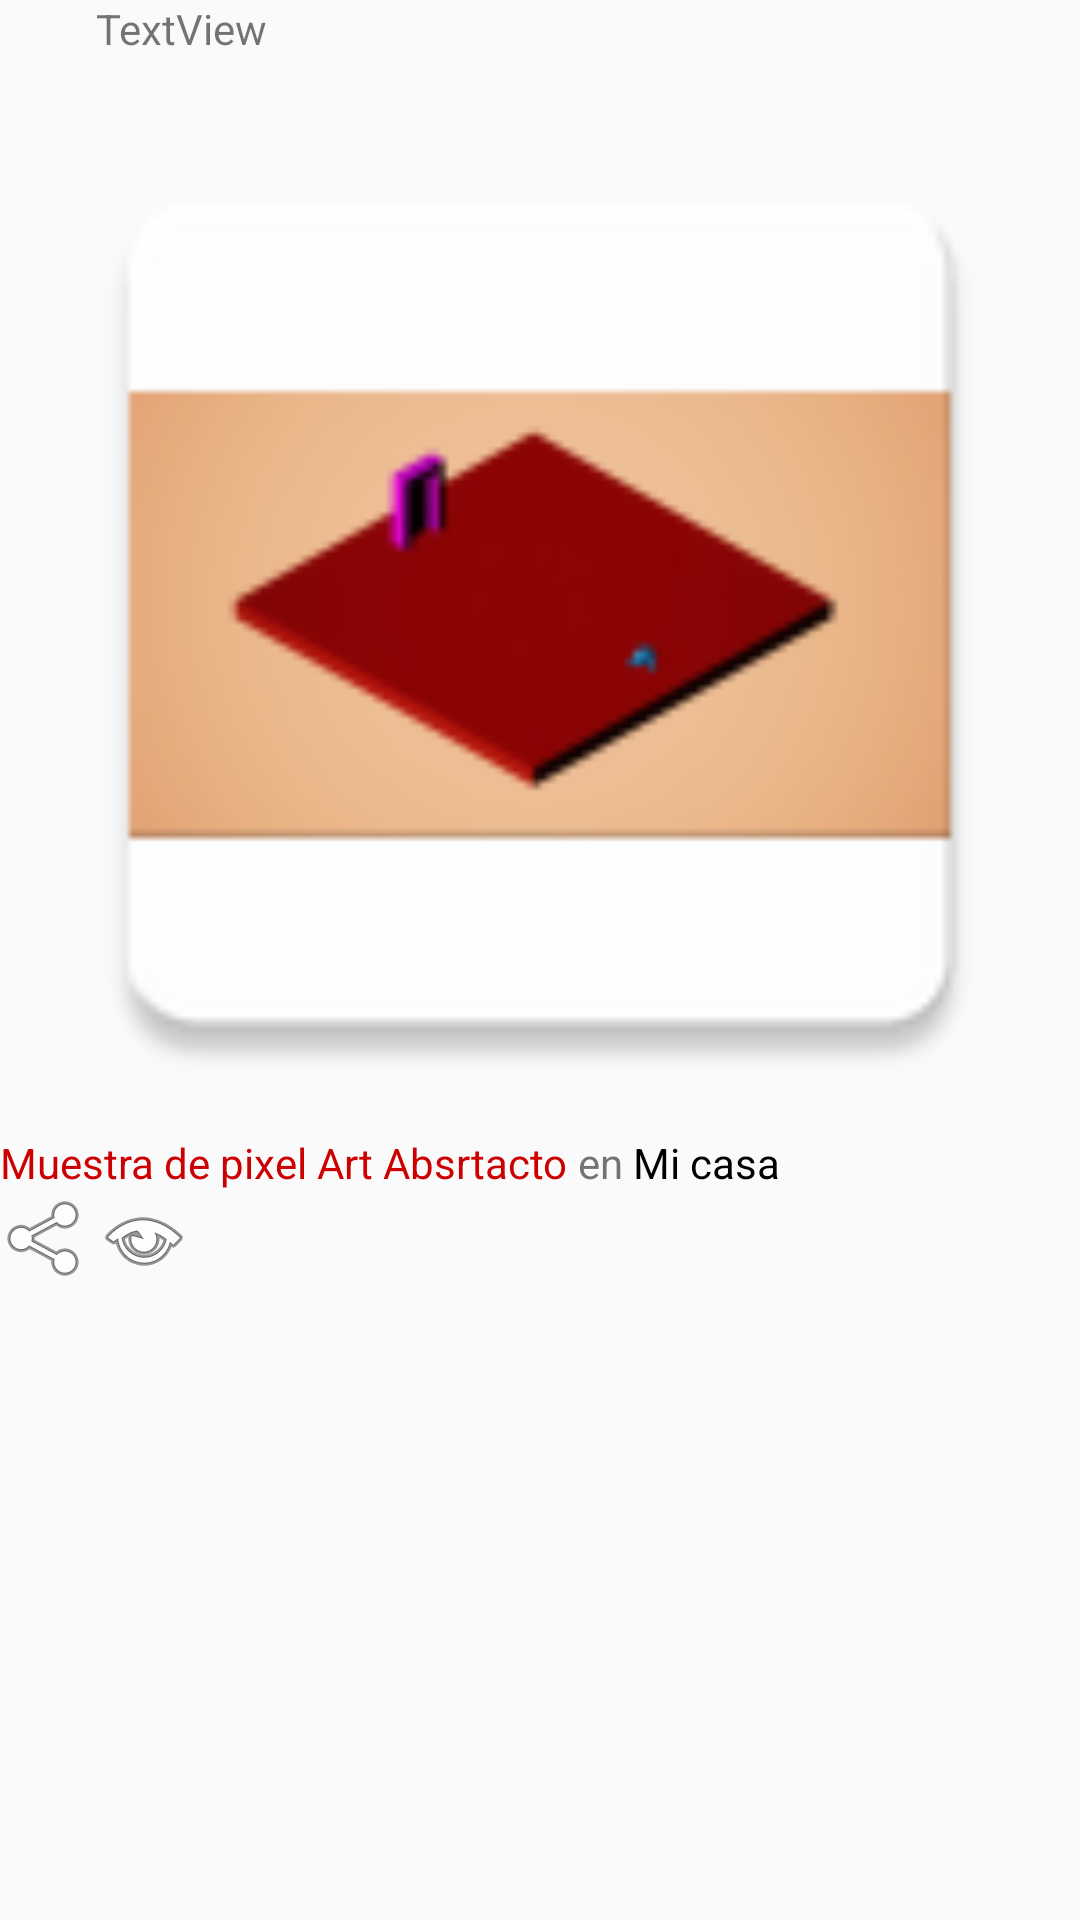

Named icons in this screenshot (1080 × 1920) and their bounding boxes, bbox=(x1, y1, x2, y2):
share: bbox=(7, 1201, 79, 1276)
view: bbox=(105, 1217, 183, 1266)
